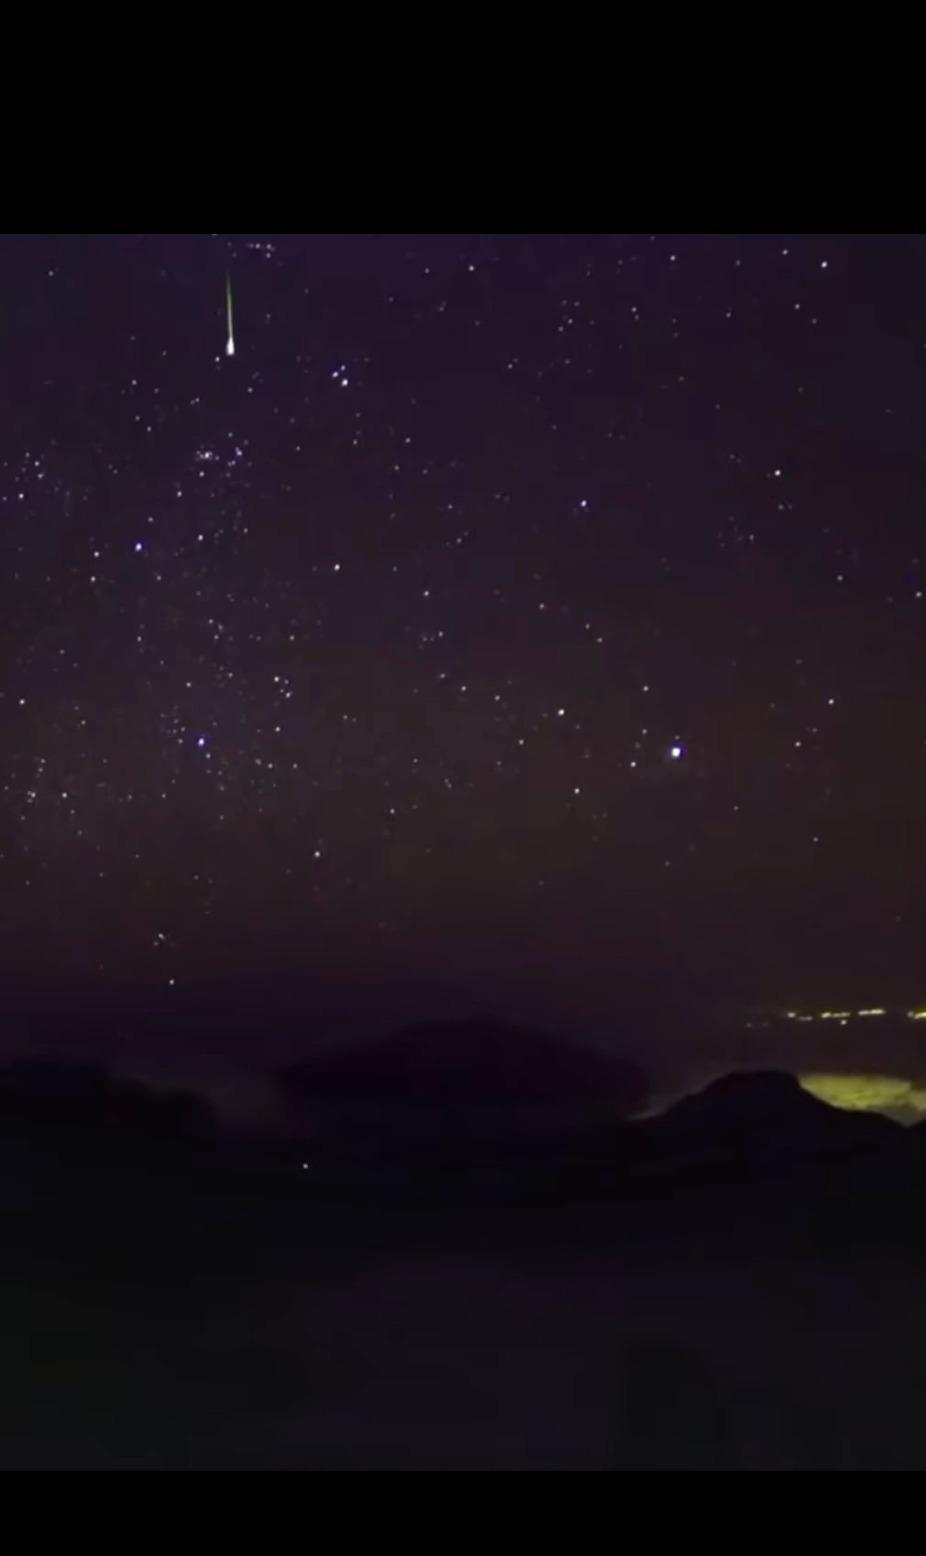meteorite: (208, 258, 249, 360)
